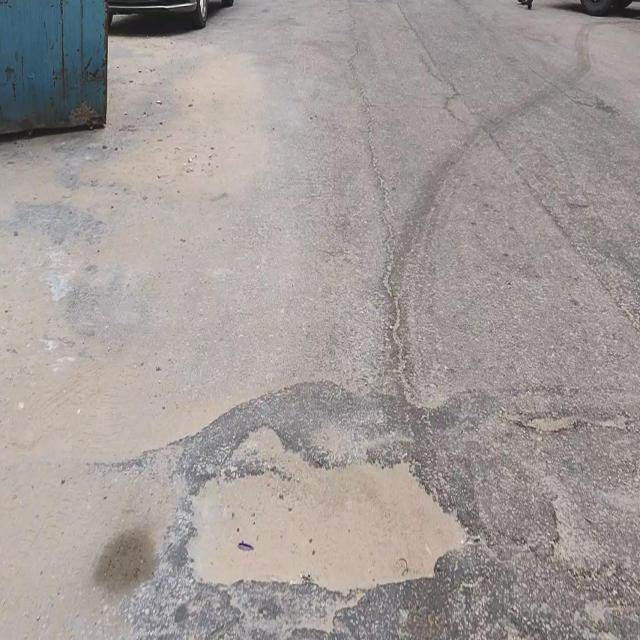Potholes: (195, 418, 459, 574)
